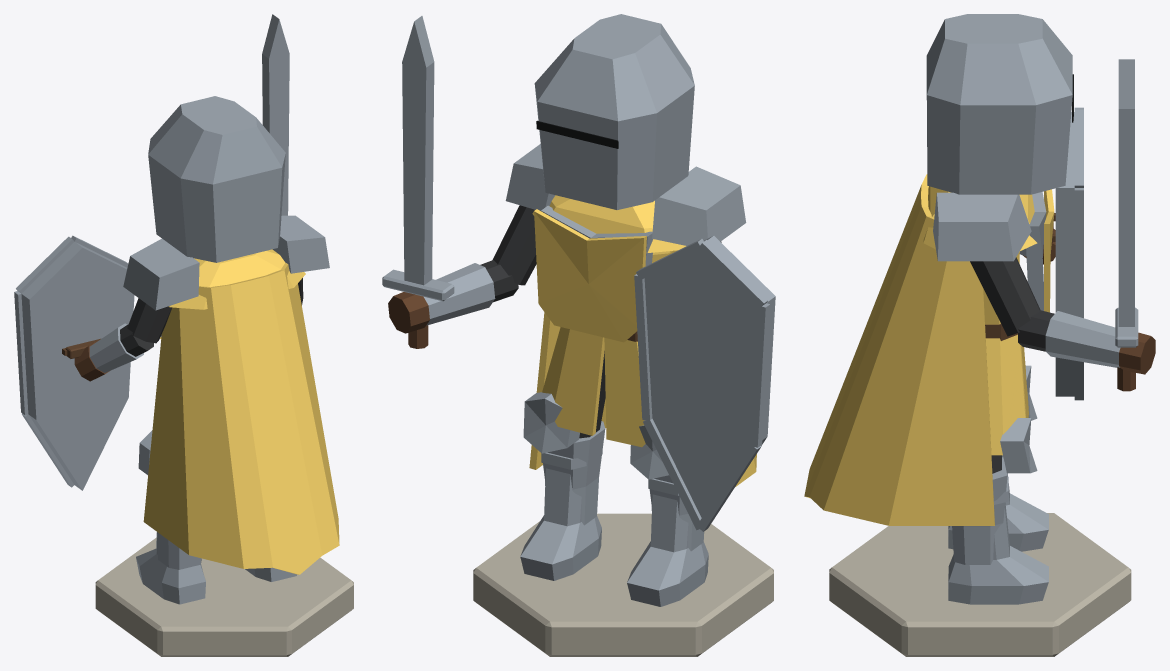
The model's file is human_soldier_t6.glb.
3 views of the same model, side by side, from view 1: azimuth 30°, elevation 25°; view 2: azimuth 150°, elevation 25°; view 3: azimuth 270°, elevation 25° (orthographic). The views are drawn at different scales.
Parts seen in each view (by area): view 1: soldier_Wrapped_Back_Cape, closed_helm, Foundation_Hexagonal_Stone, iron_shield, shoulder_plate_left, sword_blade, Continuous_Shoulder_Mantle, Boot_-1, shoulder_plate_right, left_bracer, left_upper_sleeve, iron_shield_edge_5 (+5 smaller); view 2: Foundation_Hexagonal_Stone, closed_helm, iron_shield, Rank_Cloth_Front_Tabard, sword_blade, Boot_-1, Boot_1, shoulder_plate_left, Split_Tunic_Front_1, Split_Tunic_Front_-1, Continuous_Shoulder_Mantle, right_bracer (+19 smaller); view 3: soldier_Wrapped_Back_Cape, Foundation_Hexagonal_Stone, closed_helm, shoulder_plate_right, Boot_1, sword_blade, iron_shield, Continuous_Split_Tunic_Skirt, right_bracer, right_upper_sleeve, armored_greave_1, Boot_-1 (+9 smaller).
Part boxes in pixels (x1,y1,x2,y2): soldier_Wrapped_Back_Cape: (143, 262, 339, 574); closed_helm: (148, 96, 285, 262); Foundation_Hexagonal_Stone: (95, 537, 353, 656); iron_shield: (21, 242, 134, 490); shoulder_plate_left: (123, 238, 199, 310); sword_blade: (262, 14, 289, 215); Continuous_Shoulder_Mantle: (168, 249, 305, 309); Boot_-1: (136, 532, 205, 604); shoulder_plate_right: (272, 215, 329, 273); left_bracer: (89, 323, 143, 372); left_upper_sleeve: (127, 298, 172, 343); iron_shield_edge_5: (14, 291, 28, 415); Foundation_Hexagonal_Stone: (473, 513, 773, 656); closed_helm: (534, 14, 694, 209); iron_shield: (644, 235, 775, 517); Rank_Cloth_Front_Tabard: (534, 209, 646, 342); sword_blade: (402, 16, 434, 285); Boot_-1: (627, 494, 708, 606); Boot_1: (520, 468, 601, 580); shoulder_plate_left: (652, 166, 746, 245); Split_Tunic_Front_1: (555, 329, 604, 435); Split_Tunic_Front_-1: (604, 337, 645, 447); Continuous_Shoulder_Mantle: (532, 195, 686, 252); right_bracer: (424, 263, 495, 325); soldier_Wrapped_Back_Cape: (804, 174, 994, 525); Foundation_Hexagonal_Stone: (829, 513, 1131, 656); closed_helm: (926, 14, 1072, 194); shoulder_plate_right: (933, 192, 1031, 261); Boot_1: (948, 502, 1048, 604); sword_blade: (1118, 59, 1134, 326); iron_shield: (1055, 112, 1074, 396); Continuous_Split_Tunic_Skirt: (985, 334, 1025, 455); right_bracer: (1045, 311, 1120, 367); right_upper_sleeve: (970, 257, 1040, 336); armored_greave_1: (952, 457, 1007, 564); Boot_-1: (948, 473, 1048, 551).
Bounding box in the file's own units: 1.27 × 2.06 × 1.08.
